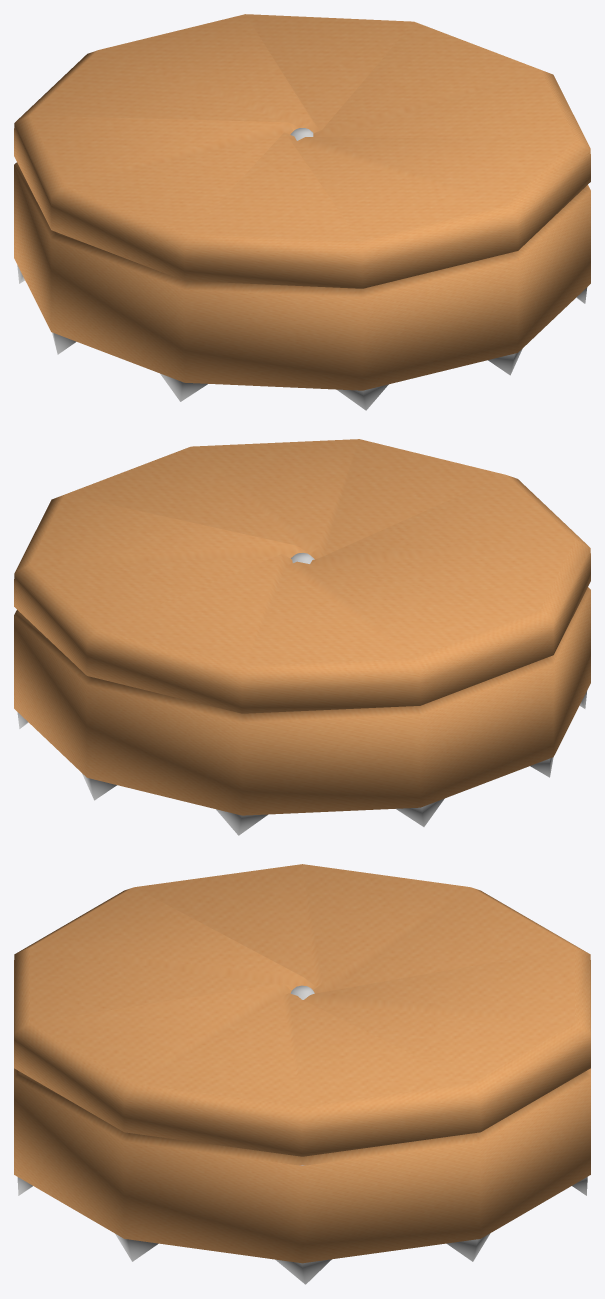
File: Ottoman_B_12.FBX
The picture shows the model from 3 angles, top to bottom: view 1: azimuth 30°, elevation 25°; view 2: azimuth 150°, elevation 25°; view 3: azimuth 270°, elevation 25°; orthographic projection. The views are drawn at different scales.
Parts seen in each view (by area): view 1: Ottoman_02; view 2: Ottoman_02; view 3: Ottoman_02.
Boxes of the visible parts, bbox=[...] form: Ottoman_02: bbox=[14, 14, 590, 410]; Ottoman_02: bbox=[14, 439, 590, 835]; Ottoman_02: bbox=[14, 864, 590, 1284].
Bounding box in the file's own units: 232 × 73.27 × 220.
